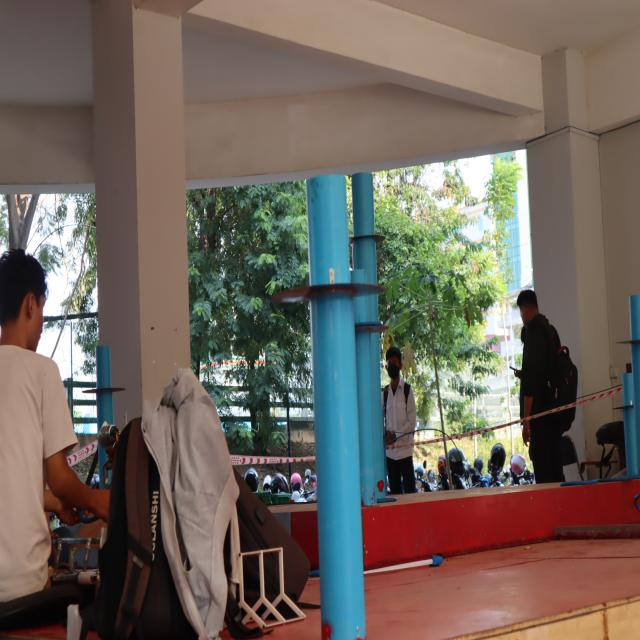pole: (271, 167, 364, 337), (345, 169, 389, 259)
